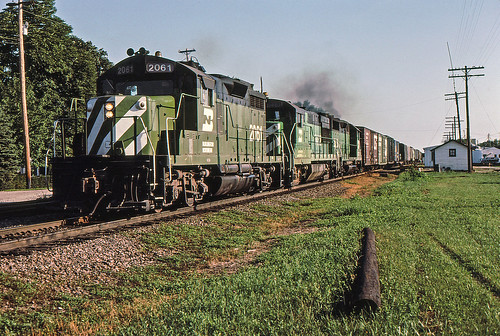building: (428, 134, 473, 171)
grass: (72, 180, 500, 326)
sky: (117, 1, 493, 122)
train: (50, 47, 422, 209)
train track: (1, 198, 178, 302)
tree: (1, 2, 106, 184)
